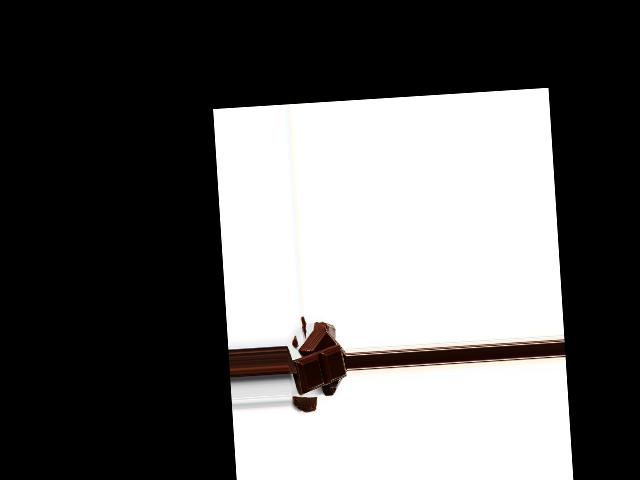chocolate: (292, 343, 345, 393)
